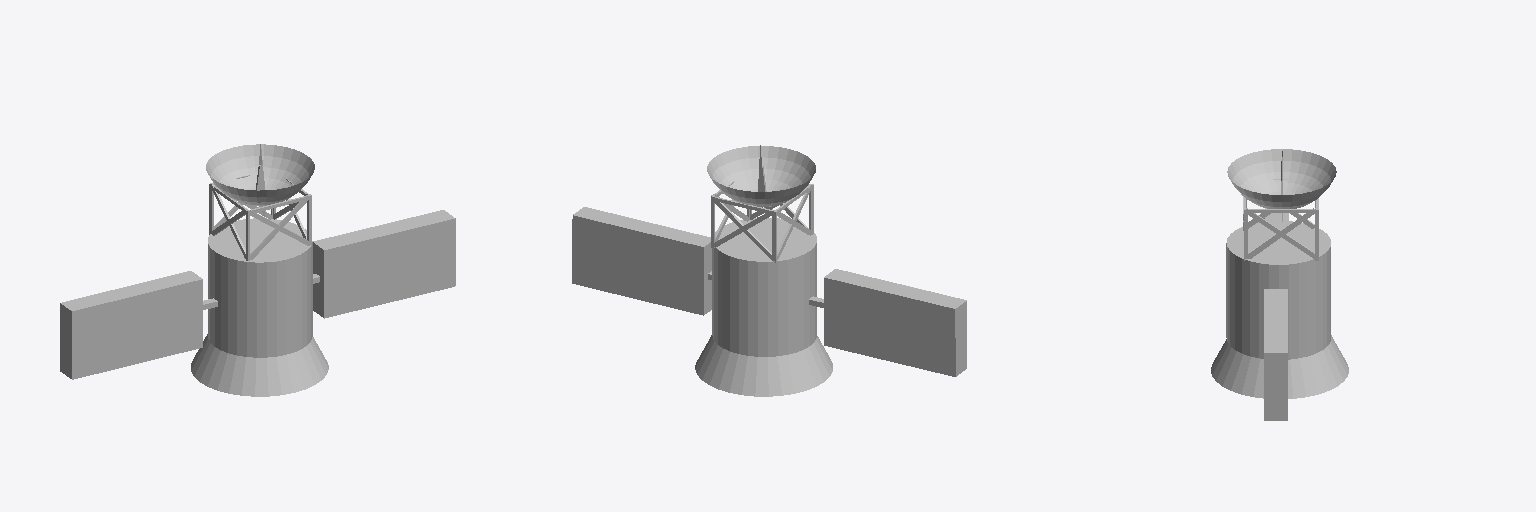
The model's file is satelite.obj.
3 views of the same model, side by side, from view 1: azimuth 30°, elevation 25°; view 2: azimuth 150°, elevation 25°; view 3: azimuth 270°, elevation 25° (orthographic).
Visible parts, largest first — view 1: Cylinder, Cube.003_Cube.004, Cube_Cube.001, Cone; view 2: Cylinder, Cube.003_Cube.004, Cube_Cube.001, Cone; view 3: Cylinder, Cone, Cube_Cube.001.
Part boxes in pixels (x1,y1,x2,y2): Cylinder: (206, 144, 314, 357); Cube.003_Cube.004: (60, 271, 202, 379); Cube_Cube.001: (313, 210, 455, 318); Cone: (191, 334, 328, 396); Cylinder: (707, 145, 816, 356); Cube.003_Cube.004: (824, 269, 966, 376); Cube_Cube.001: (572, 207, 711, 315); Cone: (695, 335, 832, 396); Cylinder: (1226, 149, 1336, 359); Cone: (1211, 335, 1348, 398); Cube_Cube.001: (1264, 289, 1287, 420).
Bounding box in the file's own units: 7.47 × 4.19 × 2.34.